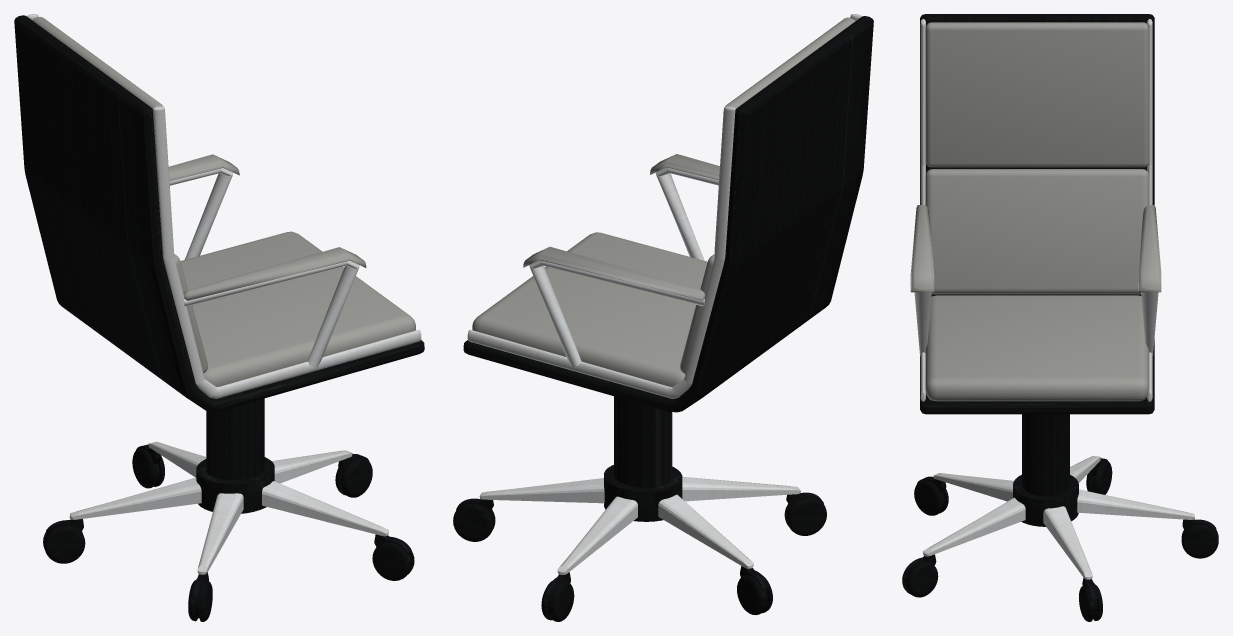
File: computer_chair_grey.glb
3 views of the same model, side by side, from view 1: azimuth 30°, elevation 25°; view 2: azimuth 150°, elevation 25°; view 3: azimuth 270°, elevation 25° (orthographic). The views are drawn at different scales.
Visible parts, largest first — view 1: Cube.016, Cube.017, Cylinder.012, Cylinder.007, Cube.021, Cube.013, Cube.009, Cube.011, Cube.019, Cylinder.008, Cube.015, Cylinder.010 (+6 smaller); view 2: Cube.016, Cube.017, Cylinder.012, Cylinder.007, Cube.020, Cube.009, Cube.015, Cube.006, Cube.011, Cube.019, Cylinder.011, Cylinder.009 (+4 smaller); view 3: Cube.019, Cube.018, Cube.017, Cube.016, Cylinder.007, Cylinder.012, Cube.013, Cube.006, Cube.021, Cube.020, Cube.015, Cube.011 (+5 smaller).
Part boxes in pixels (box(x1,y1,x2,y2)): Cube.016: box(14, 15, 424, 411); Cube.017: box(180, 231, 415, 386); Cylinder.012: box(27, 14, 421, 398); Cylinder.007: box(196, 398, 274, 513); Cube.021: box(183, 247, 366, 300); Cube.013: box(262, 481, 388, 536); Cube.009: box(69, 477, 201, 519); Cube.011: box(197, 493, 243, 574); Cube.019: box(32, 17, 163, 197); Cylinder.008: box(43, 525, 85, 563); Cube.015: box(272, 450, 352, 483); Cylinder.010: box(372, 542, 414, 580); Cube.016: box(463, 16, 873, 412); Cube.017: box(472, 232, 707, 386); Cylinder.012: box(467, 14, 861, 398); Cylinder.007: box(604, 396, 682, 521); Cube.020: box(523, 246, 705, 300); Cube.009: box(658, 494, 753, 568); Cube.015: box(479, 478, 604, 503); Cube.006: box(557, 496, 637, 574); Cube.011: box(682, 477, 800, 501); Cube.019: box(714, 17, 855, 252); Cylinder.011: box(453, 503, 495, 541); Cylinder.009: box(784, 497, 826, 535); Cube.019: box(925, 22, 1148, 167); Cube.018: box(925, 169, 1148, 294); Cube.017: box(925, 295, 1148, 401); Cube.016: box(920, 14, 1154, 414); Cylinder.007: box(1013, 414, 1078, 526); Cylinder.012: box(914, 19, 1158, 401); Cube.013: box(922, 497, 1025, 556); Cube.006: box(1077, 489, 1194, 519); Cube.021: box(910, 205, 934, 292); Cube.020: box(1138, 205, 1161, 292); Cube.015: box(1043, 506, 1092, 579); Cube.011: box(933, 473, 1013, 501).
Bounding box in the file's own units: 1.3 × 2.02 × 1.22.
3 materials, 2 textured.
